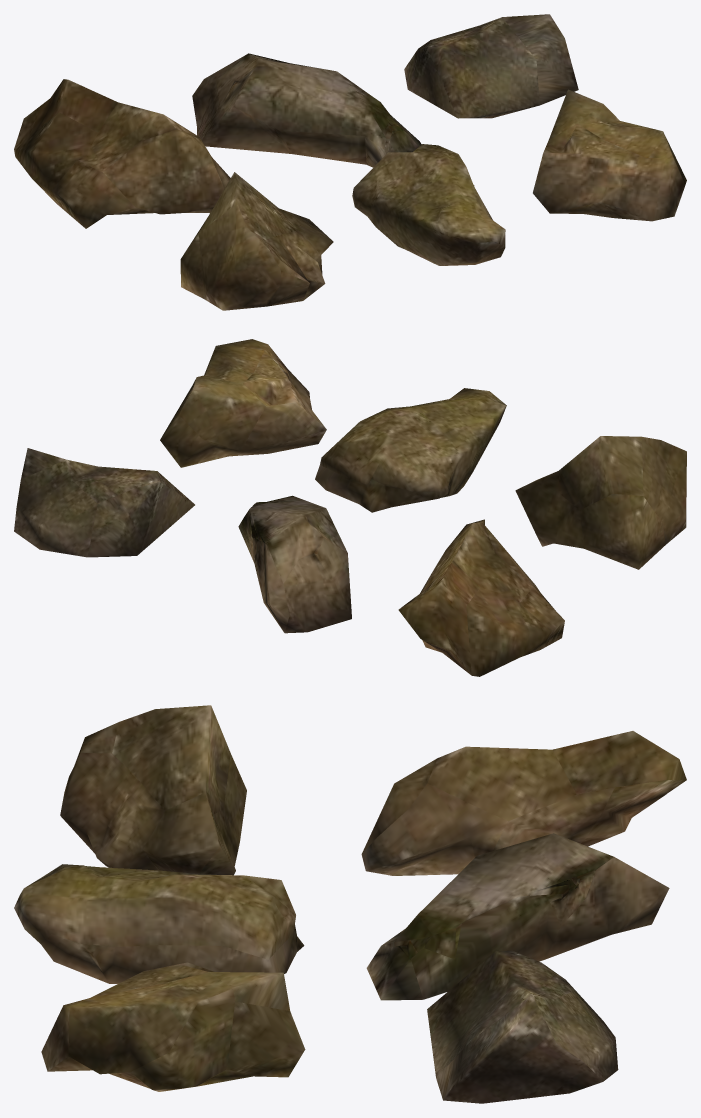
Rendered from rock_moss_set_01.glb.
The picture shows the model from 3 angles, top to bottom: view 1: azimuth 30°, elevation 25°; view 2: azimuth 150°, elevation 25°; view 3: azimuth 270°, elevation 25°; orthographic projection. The views are drawn at different scales.
Parts seen in each view (by area): view 1: rock_moss_set_01_rock01, rock_moss_set_01_rock02, rock_moss_set_01_rock06, rock_moss_set_01_rock04, rock_moss_set_01_rock03, rock_moss_set_01_rock05; view 2: rock_moss_set_01_rock04, rock_moss_set_01_rock05, rock_moss_set_01_rock01, rock_moss_set_01_rock03, rock_moss_set_01_rock06, rock_moss_set_01_rock02; view 3: rock_moss_set_01_rock01, rock_moss_set_01_rock02, rock_moss_set_01_rock05, rock_moss_set_01_rock06, rock_moss_set_01_rock04, rock_moss_set_01_rock03.
Boxes of the visible parts, box(x1,y1,x2,y2) form: rock_moss_set_01_rock01: box(14, 79, 230, 228); rock_moss_set_01_rock02: box(192, 53, 421, 167); rock_moss_set_01_rock06: box(533, 89, 686, 221); rock_moss_set_01_rock04: box(180, 172, 333, 310); rock_moss_set_01_rock03: box(404, 14, 578, 118); rock_moss_set_01_rock05: box(352, 144, 505, 265); rock_moss_set_01_rock04: box(515, 436, 686, 569); rock_moss_set_01_rock05: box(315, 388, 506, 512); rock_moss_set_01_rock01: box(398, 519, 564, 676); rock_moss_set_01_rock03: box(14, 448, 194, 557); rock_moss_set_01_rock06: box(160, 339, 326, 467); rock_moss_set_01_rock02: box(238, 495, 351, 633); rock_moss_set_01_rock01: box(361, 731, 686, 875); rock_moss_set_01_rock02: box(366, 833, 669, 1000); rock_moss_set_01_rock05: box(14, 864, 304, 983); rock_moss_set_01_rock06: box(41, 962, 305, 1091); rock_moss_set_01_rock04: box(60, 705, 246, 875); rock_moss_set_01_rock03: box(427, 950, 618, 1103).
Size of the model in its own units: 7.94 by 1.75 by 6.94.
Materials: 1 (1 with a texture image).
